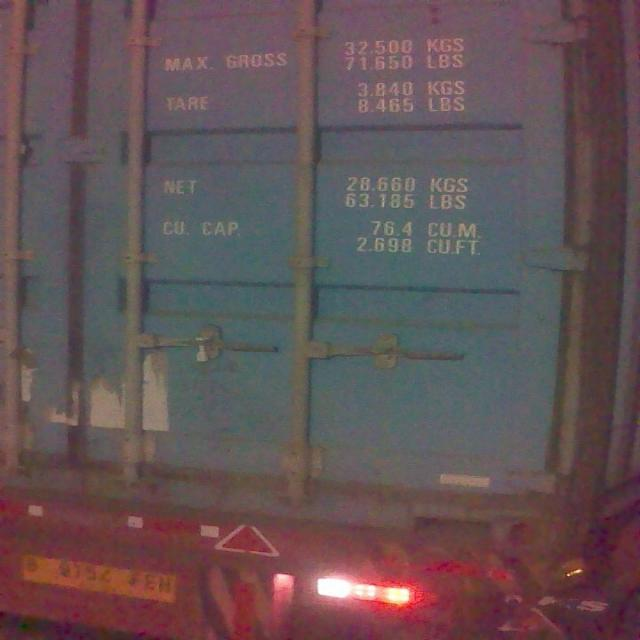seal: (190, 334, 211, 366)
